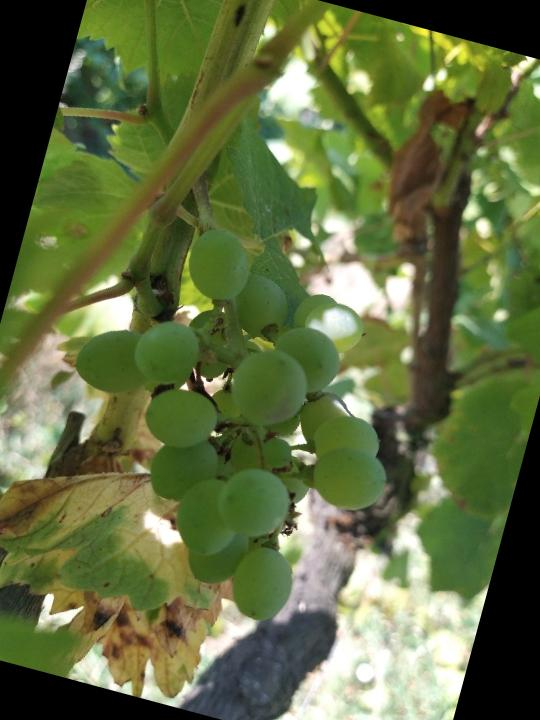grape: (22, 200, 443, 647)
